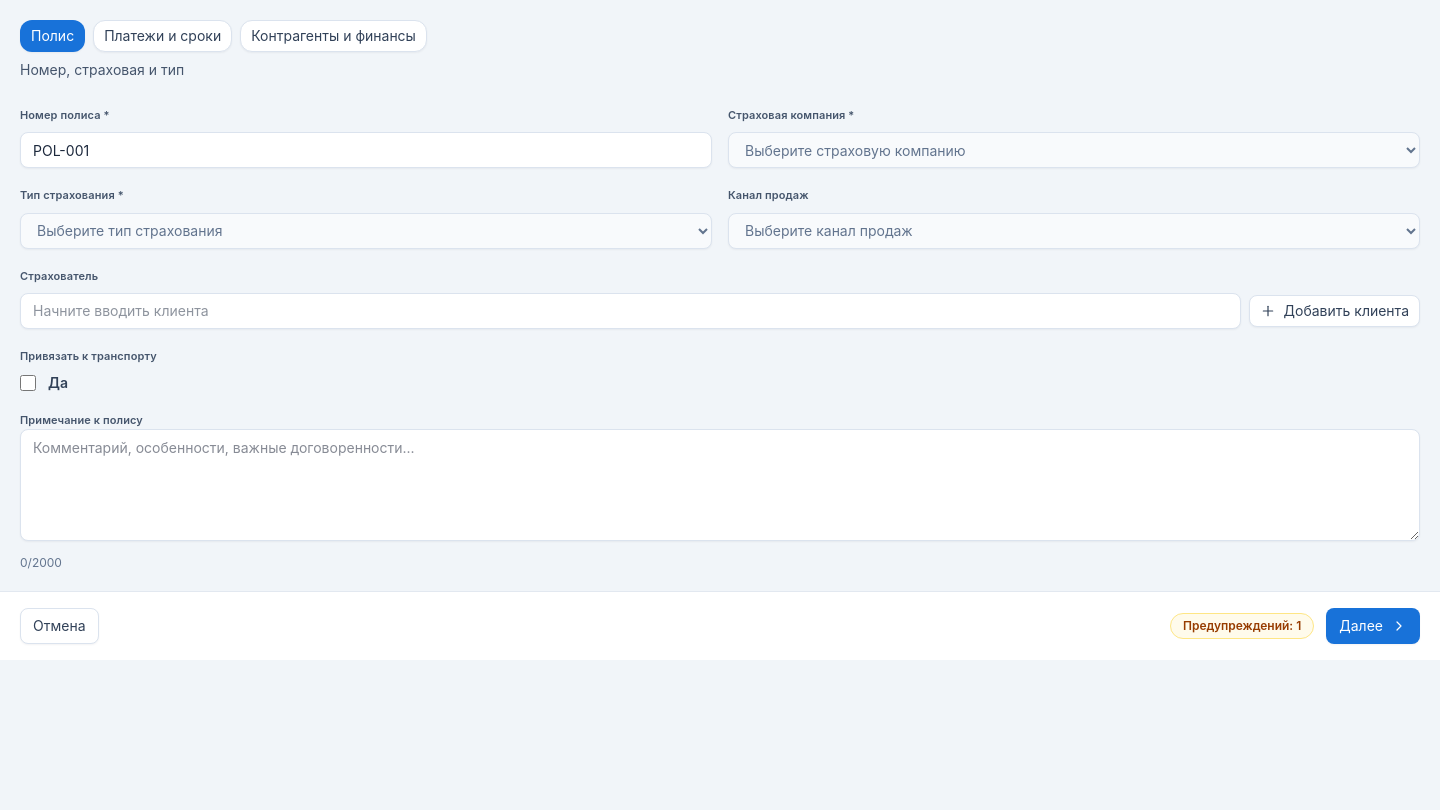
Test: AddPolicyForm › keeps actual date and current step when edit form rerenders from dirty state
Click the button "Платежи и сроки" at (163,36), box [93,20,232,52]
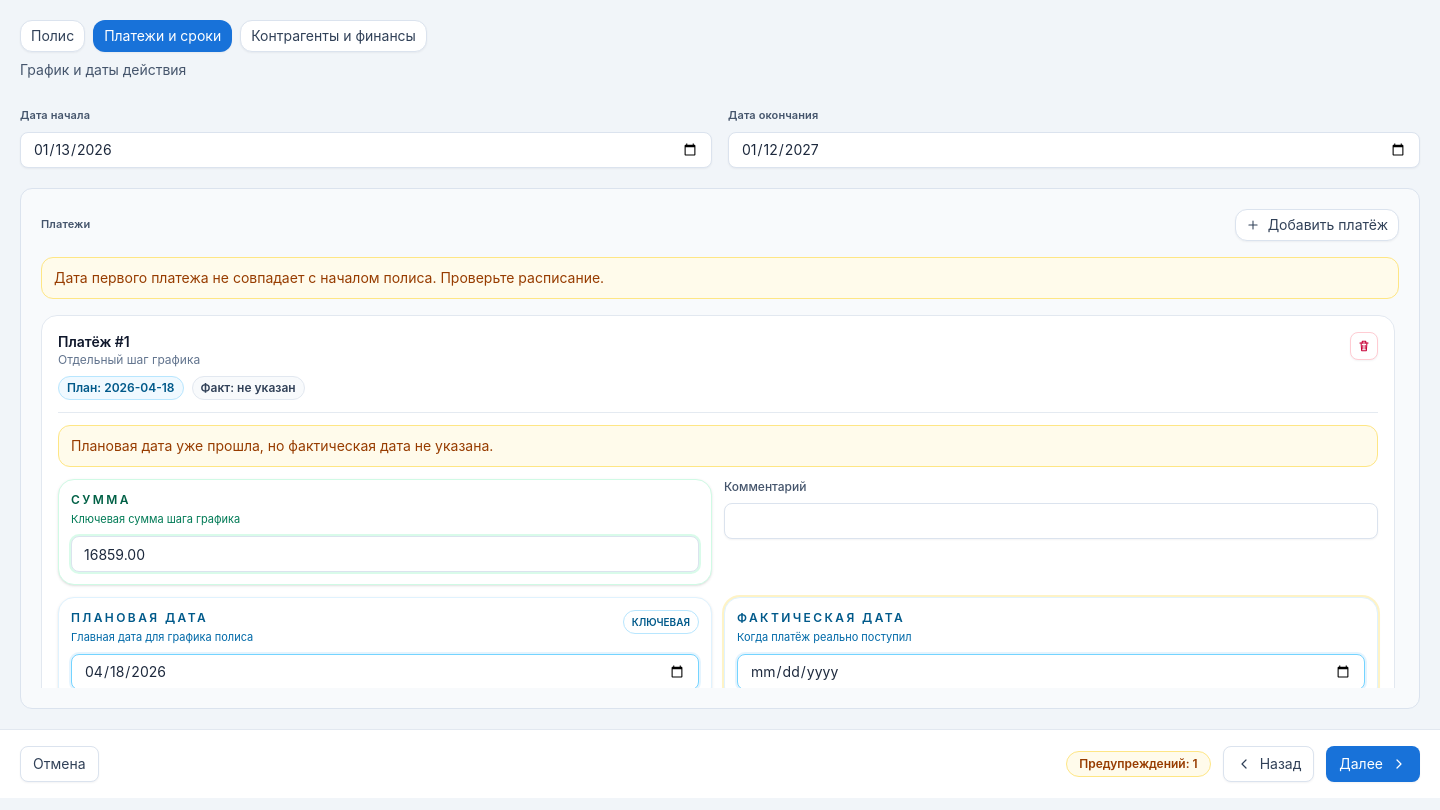
Type "2026-04-08" into the date field below "Когда платёж реально поступил" at (1051,672), box [737,654,1365,690]
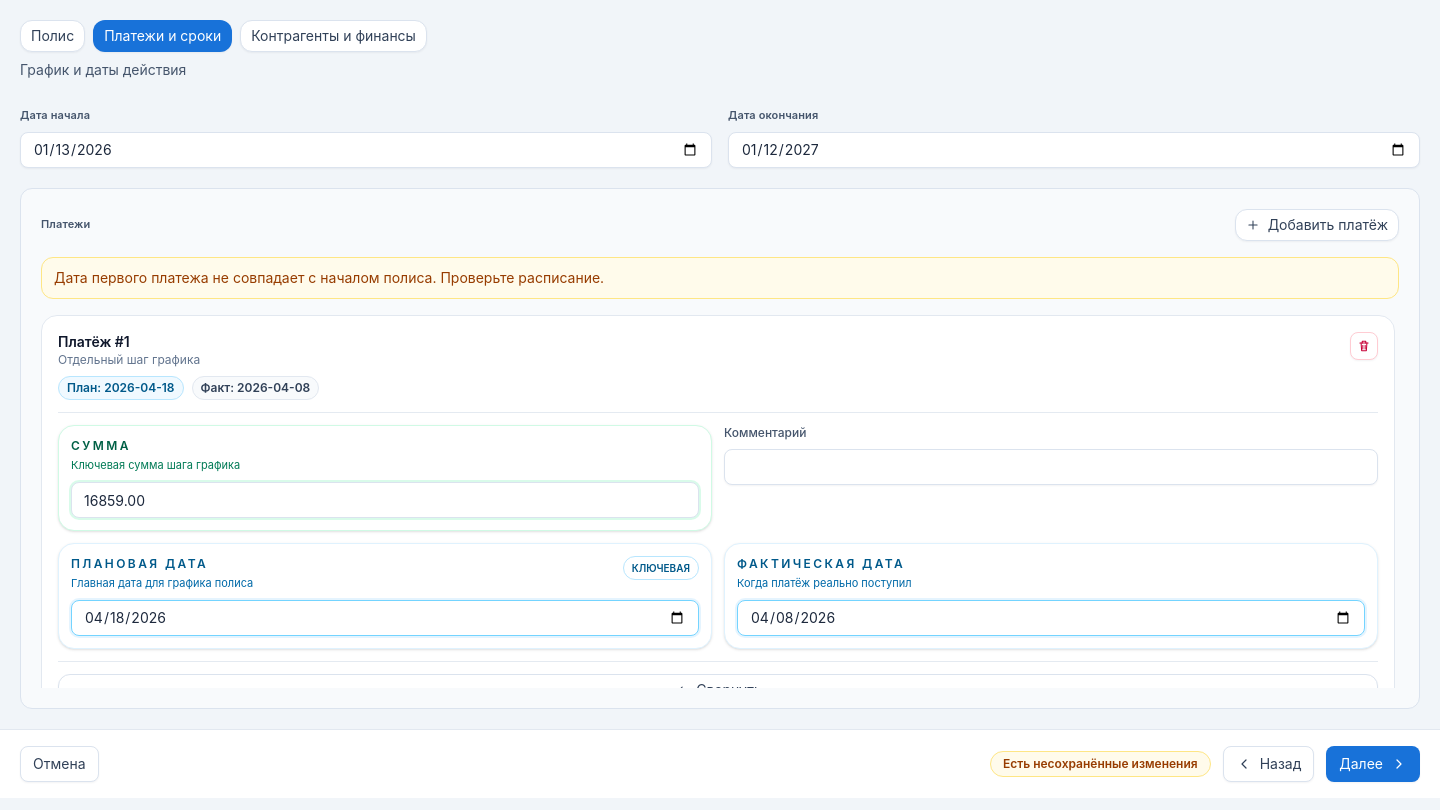
Expected: the element with test id "policy-payment-card" is shown, [41,315,1395,688]
Expected: the element with test id "dirty-yes" is shown
Expected: the text "Есть несохранённые изменения" is shown, [990,751,1211,777]
